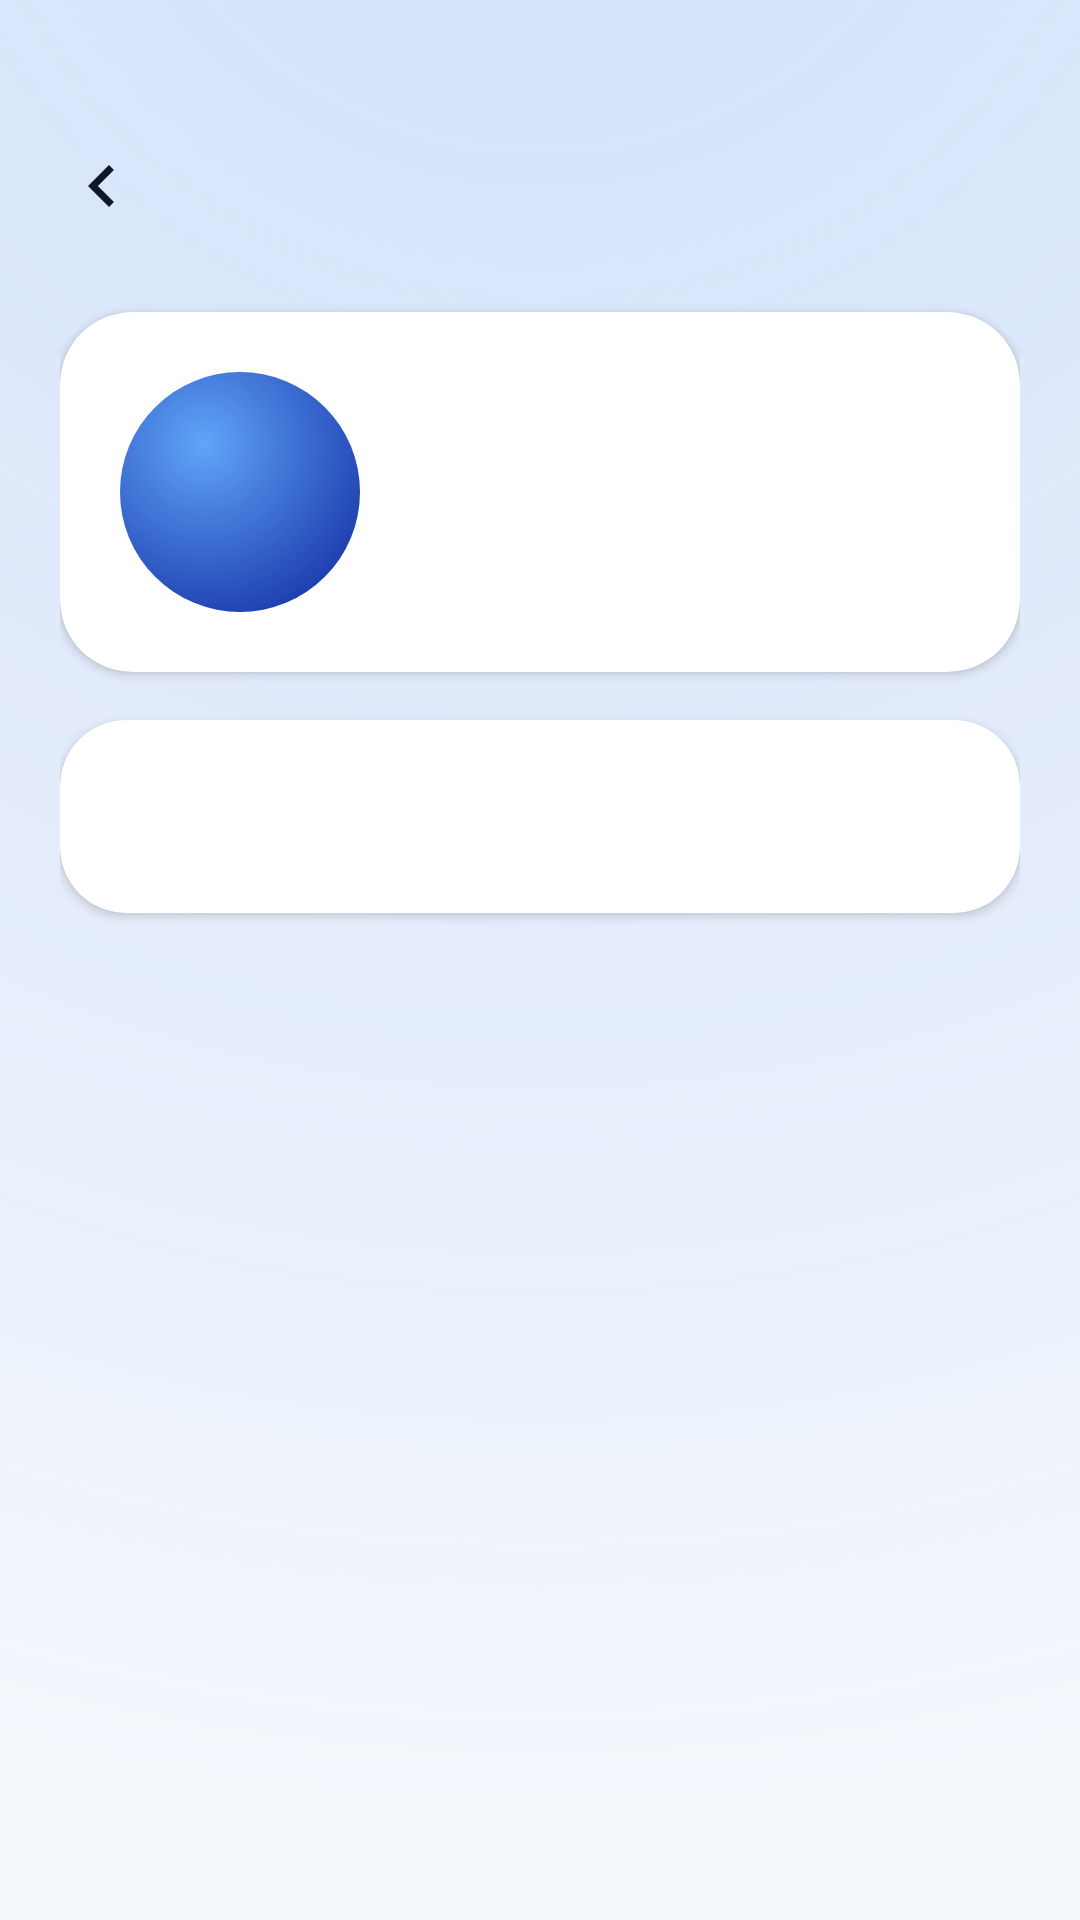

Icon click points for this 1080px×1920px phone screenshot, format (x,y):
Back: (101,186)
